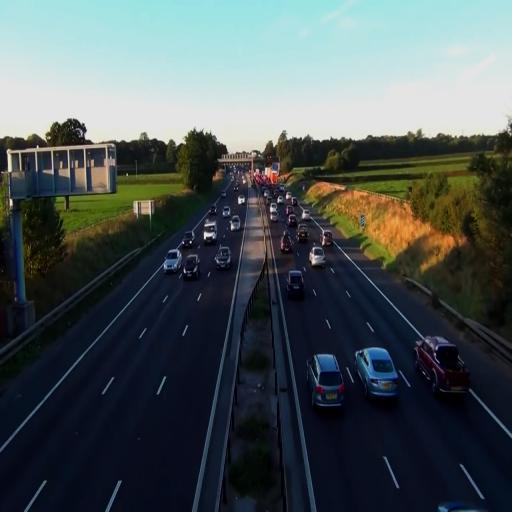vehicle: (414, 337, 470, 398), (307, 352, 346, 412), (355, 346, 398, 399), (286, 268, 305, 298), (182, 250, 200, 280), (214, 244, 232, 270), (163, 250, 182, 274), (308, 246, 326, 268), (203, 219, 217, 243), (280, 233, 294, 255), (297, 223, 310, 242), (182, 232, 194, 249), (297, 225, 308, 243), (230, 215, 241, 231)
